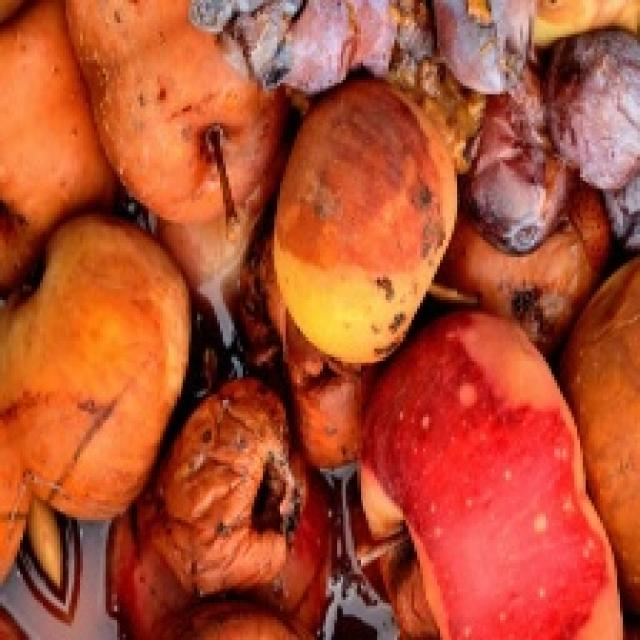rotten_apple: (282, 83, 454, 354), (10, 222, 162, 508), (107, 30, 271, 214), (166, 380, 308, 582), (457, 225, 593, 347), (550, 30, 640, 187)
